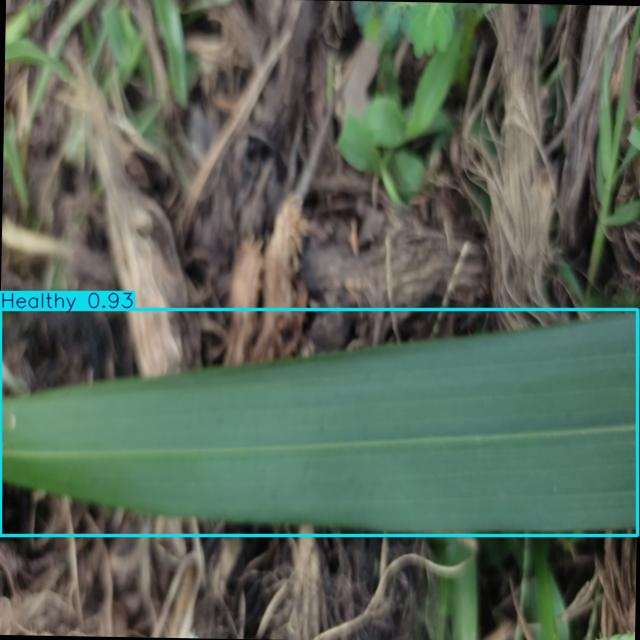Healthy: (0, 309, 638, 535)
